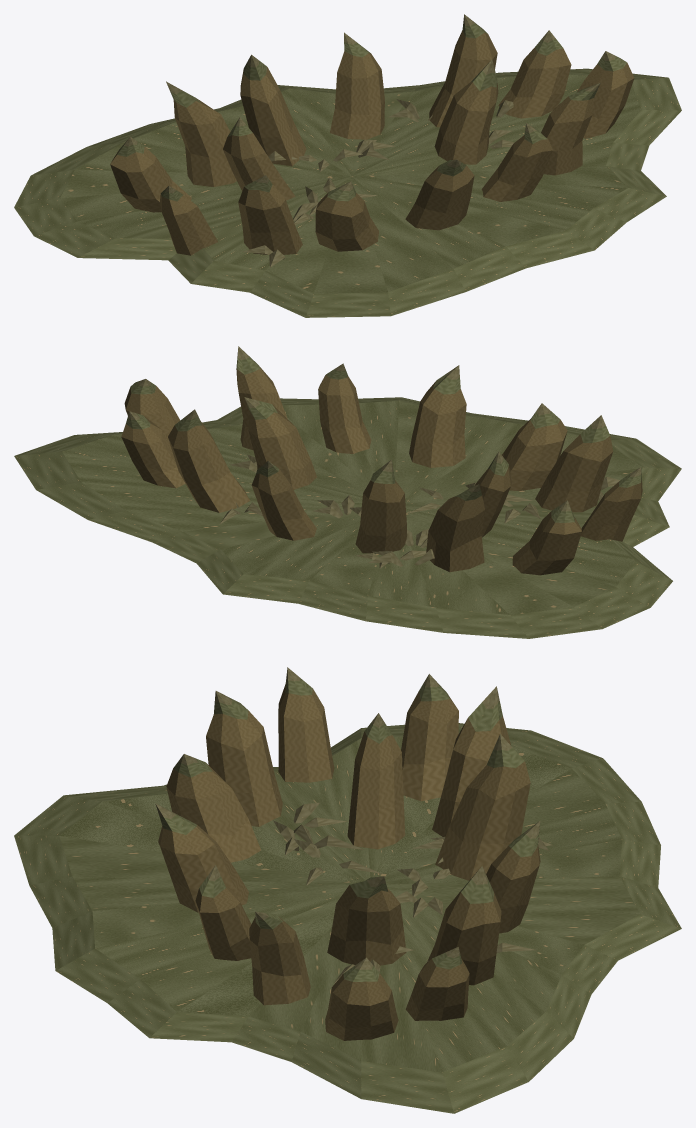
3 renders of one model, top to bottom at view 1: azimuth 30°, elevation 25°; view 2: azimuth 150°, elevation 25°; view 3: azimuth 270°, elevation 25°, orthographic. The views are drawn at different scales.
Visible parts, largest first — view 1: garrison_part_0000, garrison_part_0001; view 2: garrison_part_0000, garrison_part_0001; view 3: garrison_part_0000, garrison_part_0001.
Boxes of the visible parts, box(x1,y1,x2,y2) form: garrison_part_0000: box(14, 68, 681, 317); garrison_part_0001: box(110, 14, 634, 255); garrison_part_0000: box(14, 397, 681, 638); garrison_part_0001: box(121, 346, 642, 575); garrison_part_0000: box(14, 723, 681, 1113); garrison_part_0001: box(155, 667, 540, 1040).
Size of the model in its own units: 2080 by 334 by 1497.
